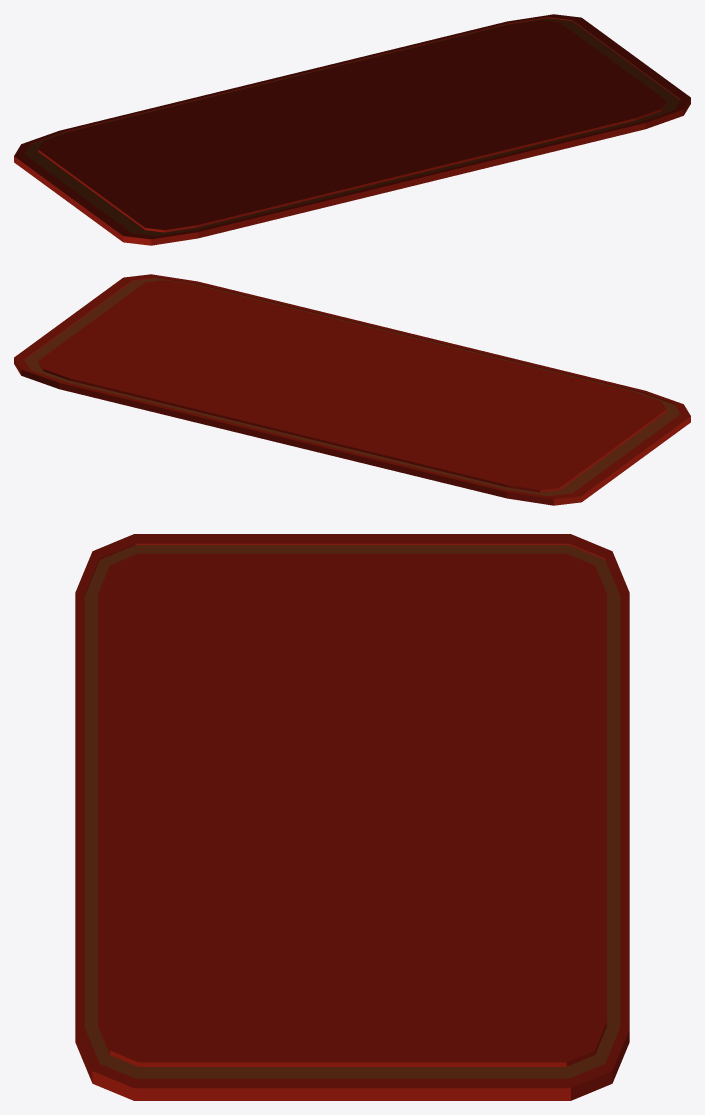
The model's file is Red Mat.fbx.
3 renders of one model, top to bottom at view 1: azimuth 30°, elevation 25°; view 2: azimuth 150°, elevation 25°; view 3: azimuth 270°, elevation 25°, orthographic. The views are drawn at different scales.
Visible parts, largest first — view 1: Node 0; view 2: Node 0; view 3: Node 0.
Boxes of the visible parts, x1,y1,x2,y2 form: Node 0: (14,14,690,245); Node 0: (14,274,690,505); Node 0: (75,534,629,1100).
Bounding box in the file's own units: 0.2501 × 0.00792 × 0.5915.
